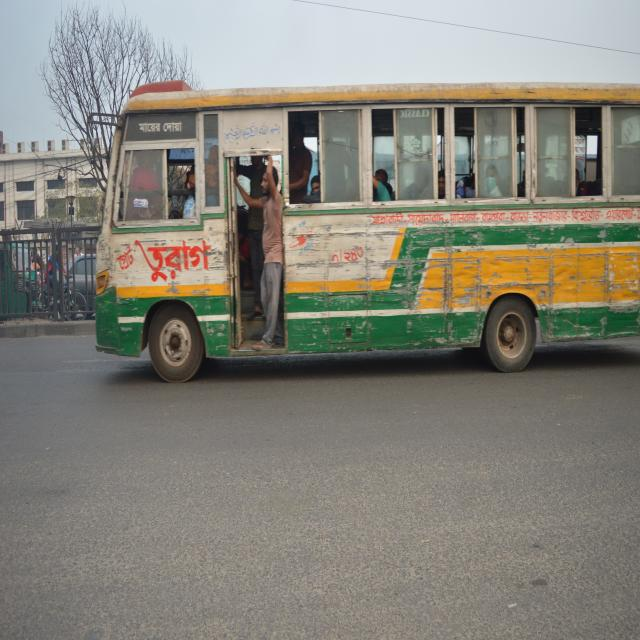bus: (73, 64, 640, 391)
